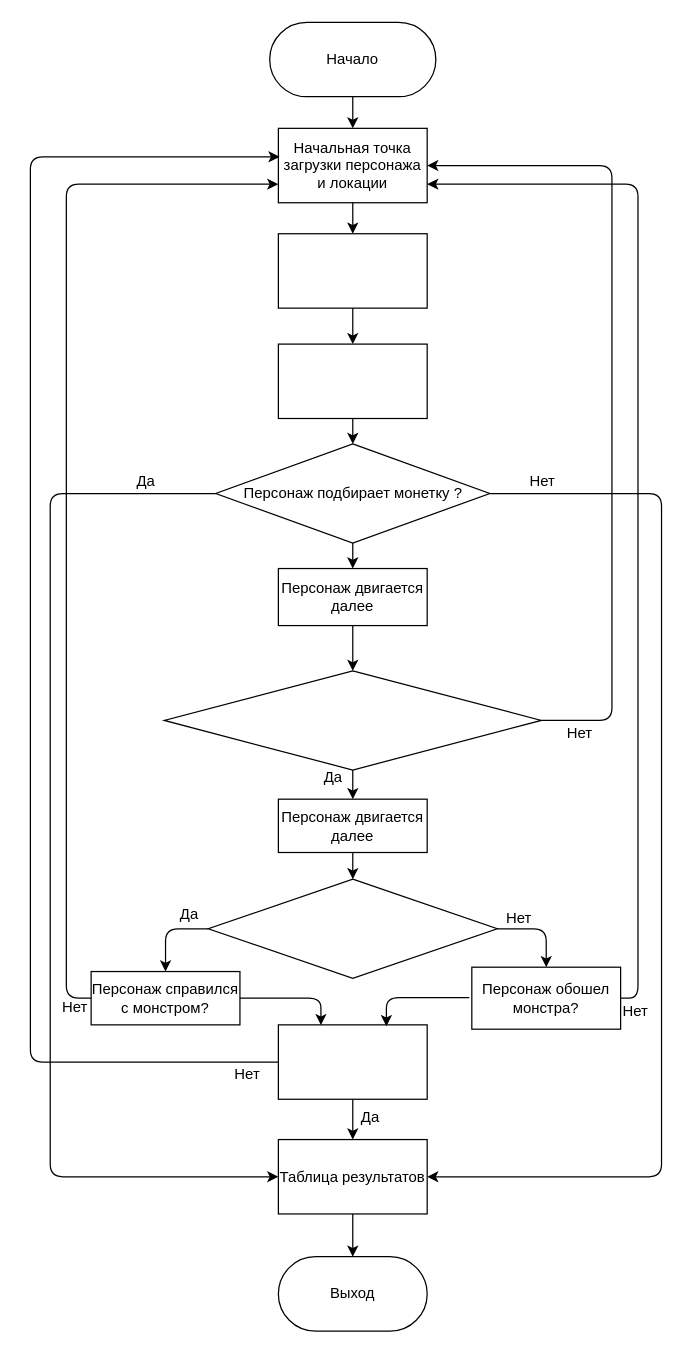
This 693x1353 diagram has some shape labels left out. The shapes that lost their labels are listed below. From the top down, each one's centre as x and y in pixels, then its label:
the point at 352,270: Персонаж двигается
the point at 352,380: Персонажу дается возможность подобрать монетку
the point at 352,720: Персонаж проходит препятствие на локации?
the point at 352,928: Персонаж решает убить монстра
the point at 352,1061: Персонаж доходит до точки конца уровня?
